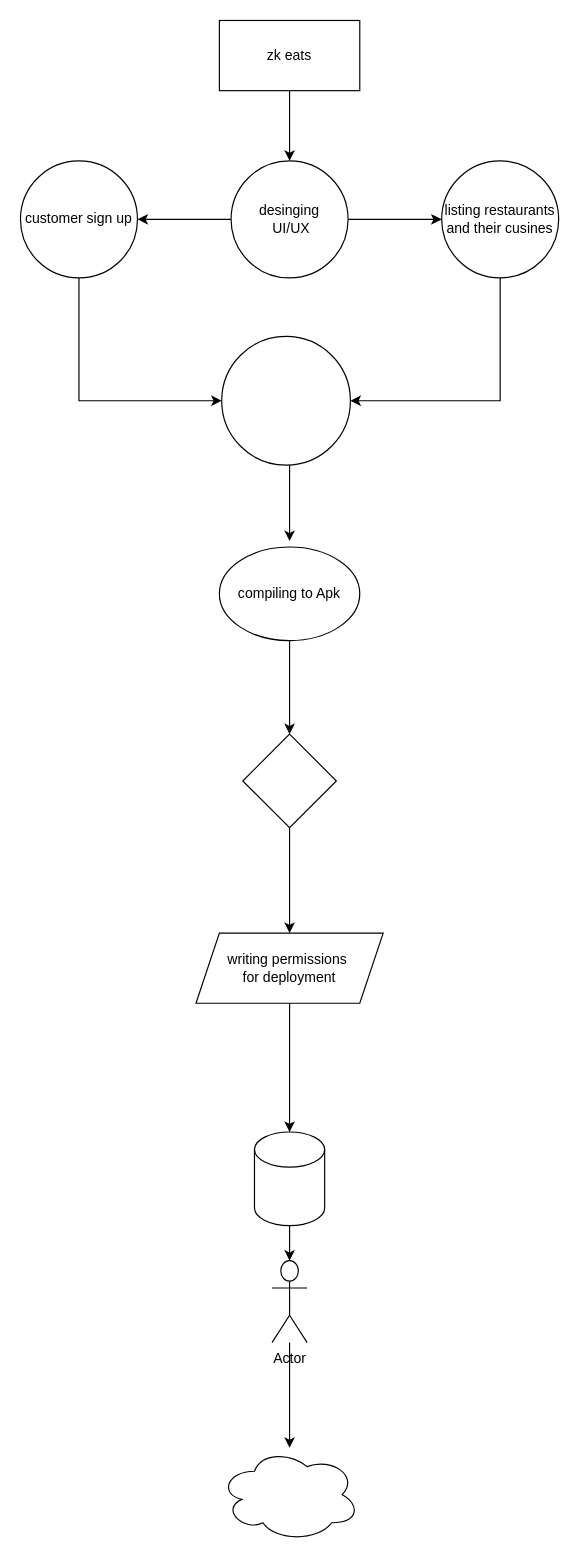
The diagram is 579 pixels wide and 1562 high, and some of its shapes have lost their labels. Here are the shapes that lost their labels. From the top down, the centre of each, then its label:
At point 289,780: "no bugs found".
At point 289,1178: "Pushed to Appstore".
At point 289,1494: "received no feedback".
